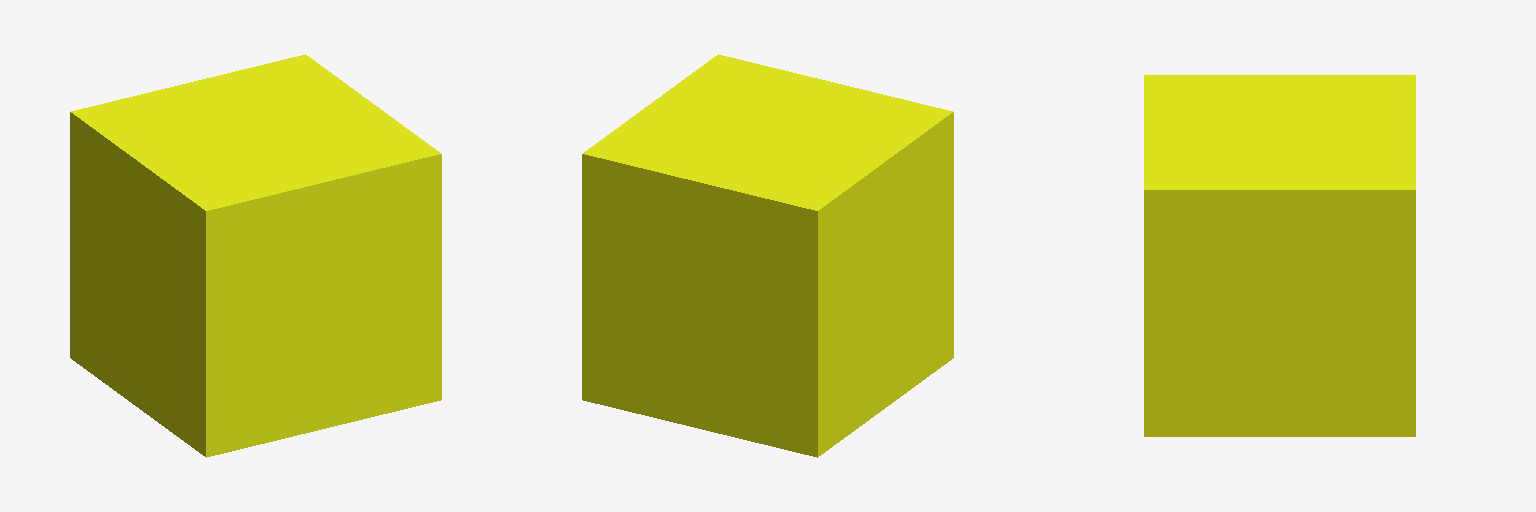
The picture shows the model from 3 angles: view 1: azimuth 30°, elevation 25°; view 2: azimuth 150°, elevation 25°; view 3: azimuth 270°, elevation 25°; orthographic projection.
Parts seen in each view (by area): view 1: Cube; view 2: Cube; view 3: Cube.
Part boxes in pixels (bbox=[...]): Cube: bbox=[70, 54, 441, 457]; Cube: bbox=[582, 54, 953, 457]; Cube: bbox=[1144, 75, 1415, 436].
Size of the model in its own units: 1 by 1 by 1.
Materials: 1 (1 with a texture image).